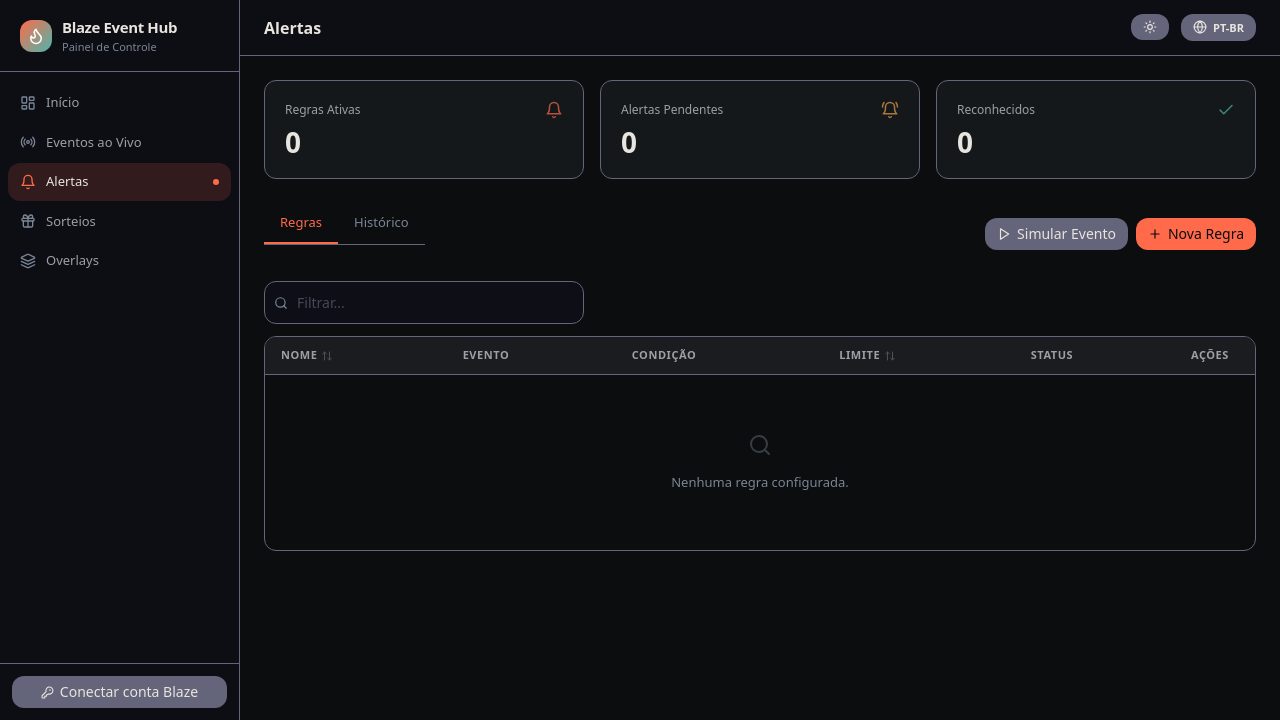
Test: Alerts › creates a rule through the modal with the default form values
Click the button "Nova Regra" at (1196, 234), box [1136, 218, 1256, 250]
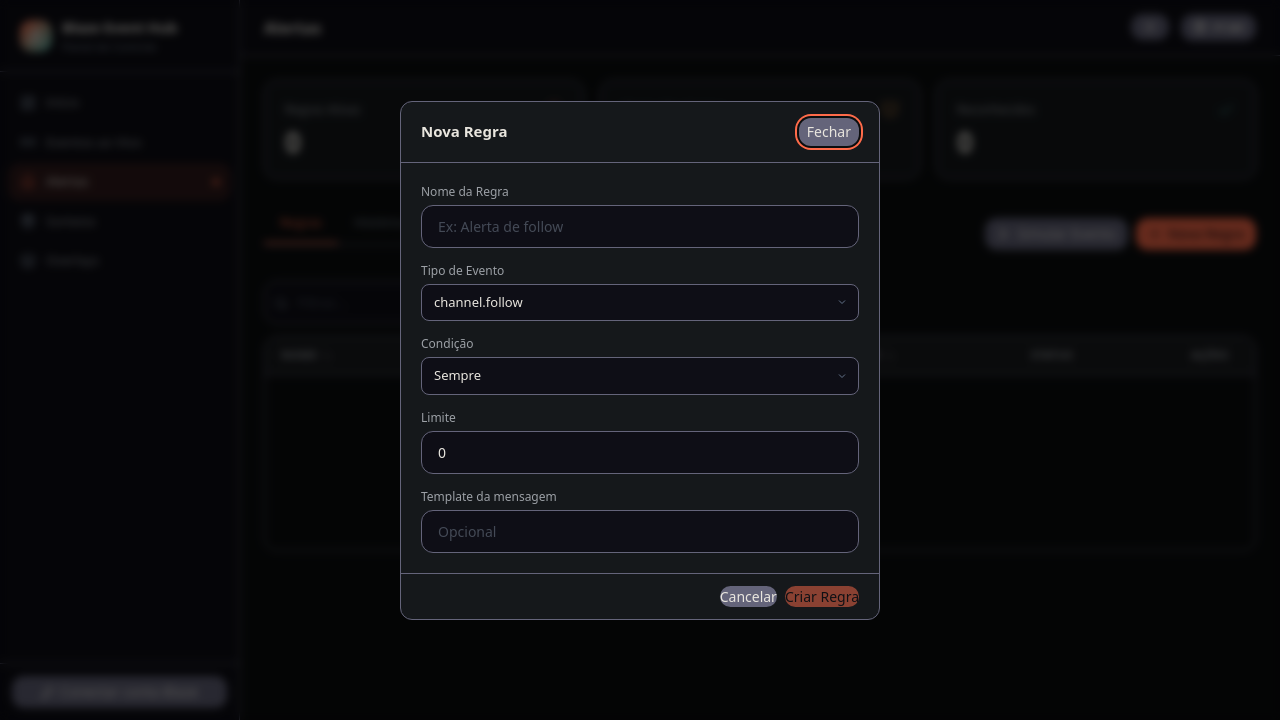
Expected: the dialog "Nova Regra" is shown, [400, 100, 880, 620]
Expected: the button "Criar Regra" is disabled, [785, 586, 859, 606]
Type "Minha regra" into the field labelled "Nome da Regra" at (640, 226), box [421, 204, 859, 248]
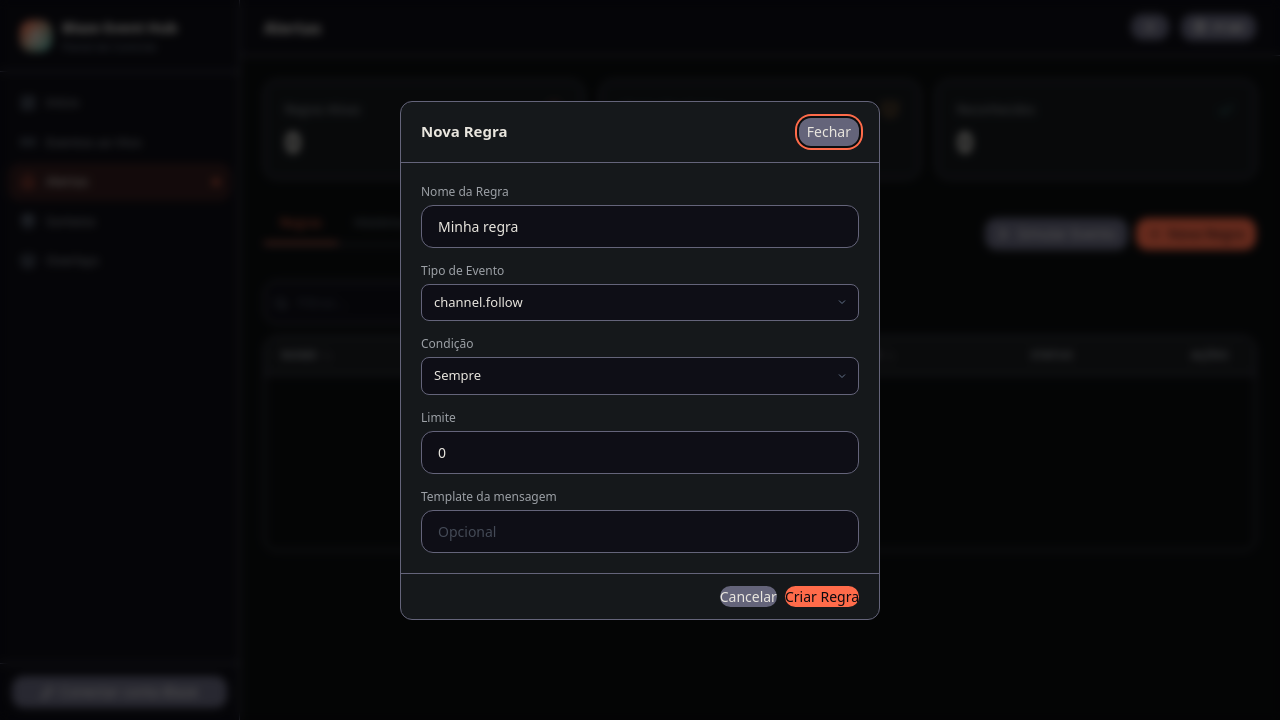
Expected: the button "Criar Regra" is enabled
Click the button "Criar Regra" at (822, 596), box [785, 586, 859, 606]
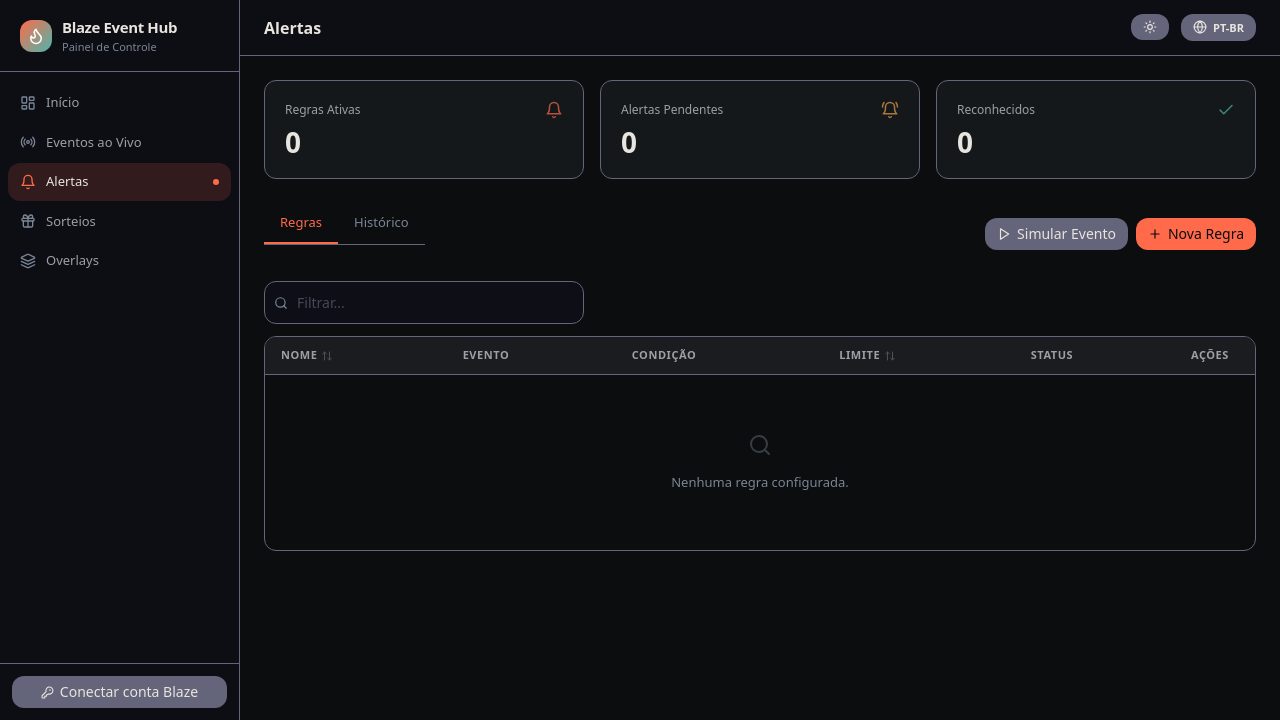
Expected: the button "Nova Regra" is enabled, [1136, 218, 1256, 250]
Expected: the dialog is gone
